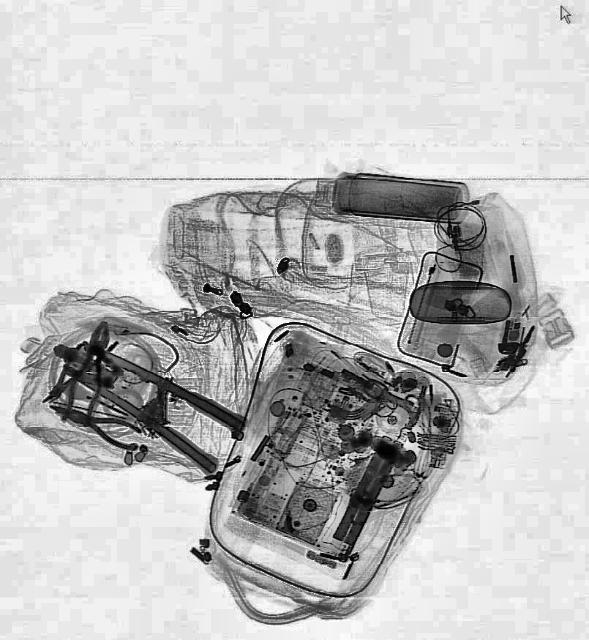Pliers: (56, 314, 120, 426), (44, 392, 146, 454)
